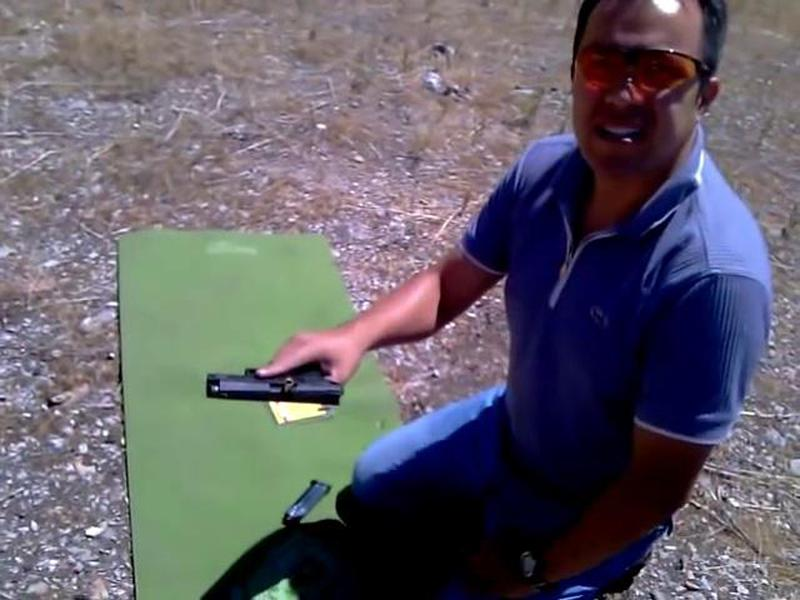Pistola: (176, 344, 356, 424)
